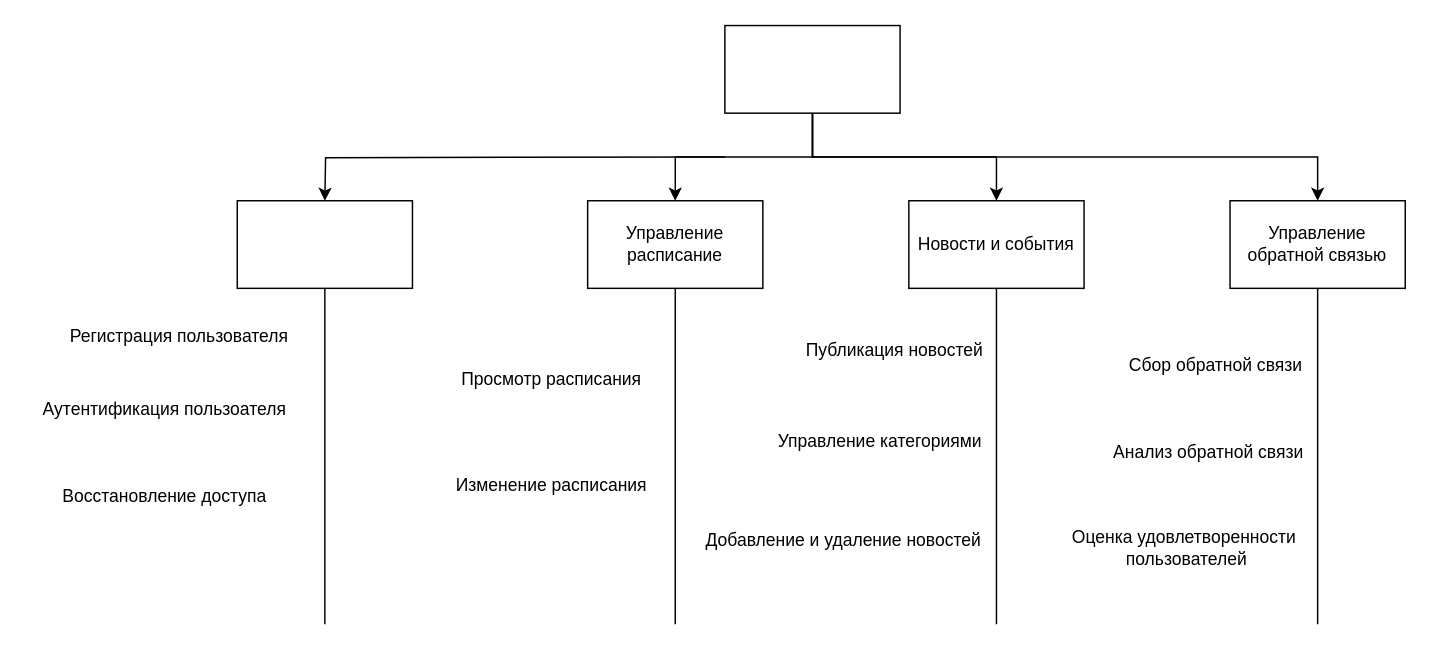
Some shapes in this 1431 by 651 pixel diagram are drawn without their labels. Here are the shapes that lost their labels. From the top down, the centre of each, then its label:
pixel 811 68: Сайт для университета
pixel 324 243: Регистрация и аутентификация
